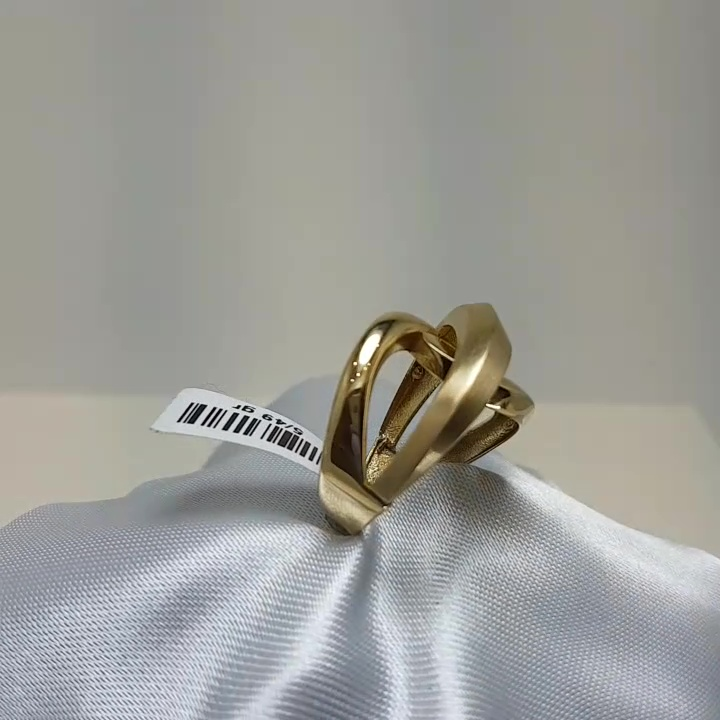Ring 3: (307, 290, 568, 550)
